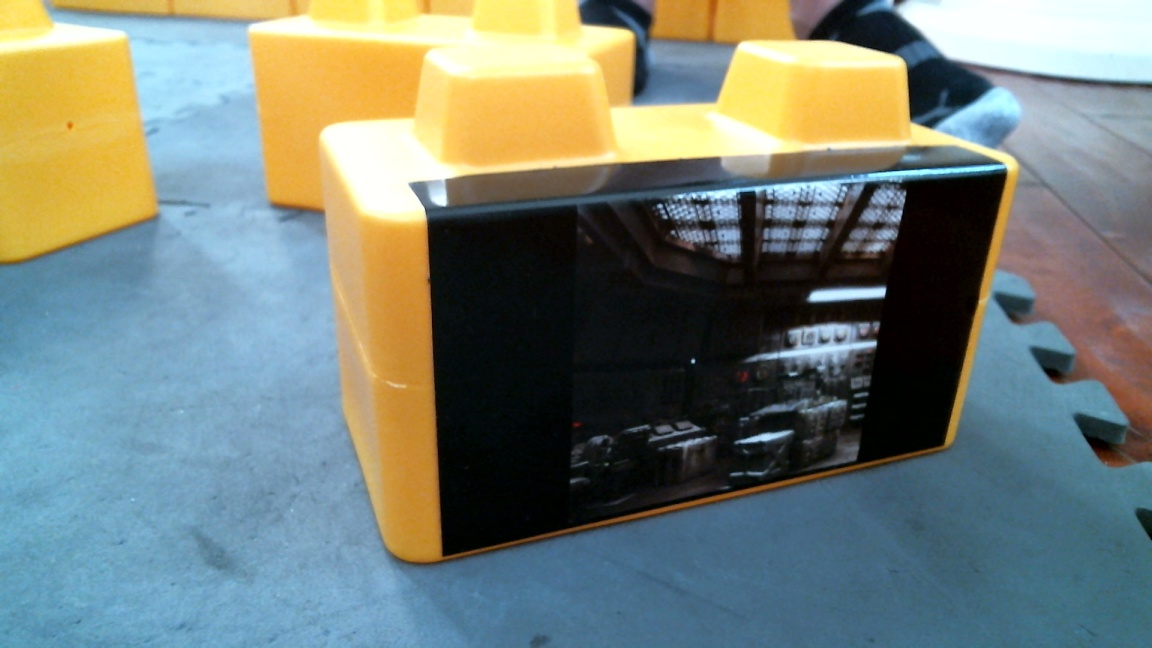skystone: (386, 29, 1007, 574)
